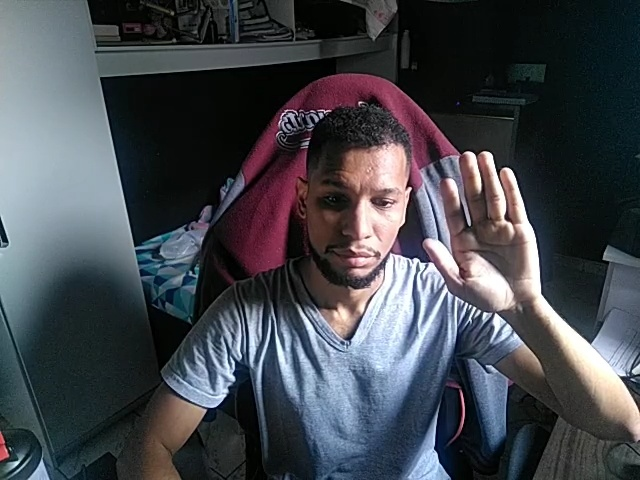oi: (417, 147, 546, 319)
